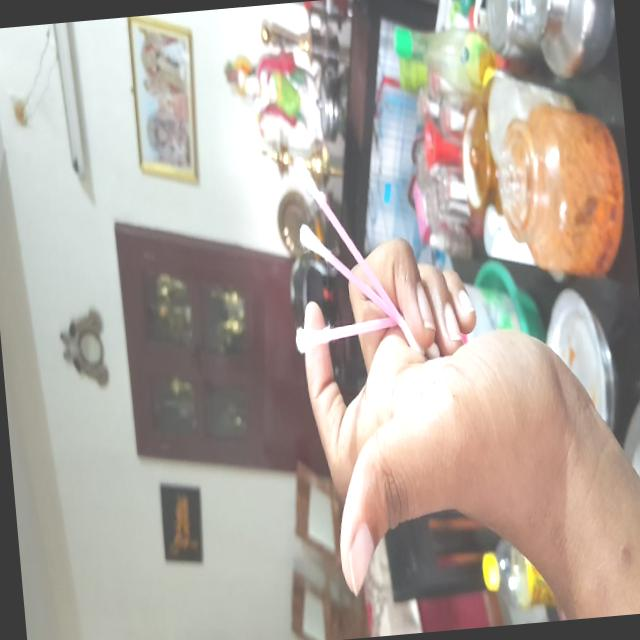Earbud - Non Recyclable: (274, 120, 454, 394), (55, 306, 110, 394)
